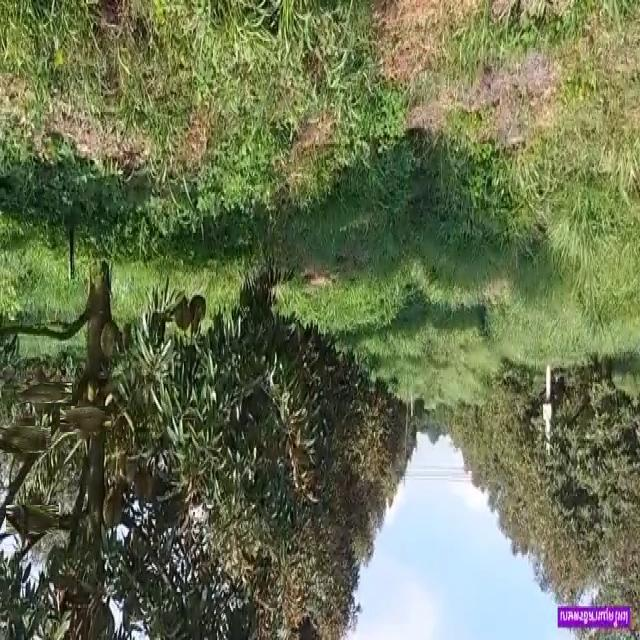durian: (12, 499, 54, 540), (3, 420, 45, 460), (22, 372, 63, 412), (66, 400, 105, 439), (102, 481, 127, 533), (100, 314, 121, 363)
